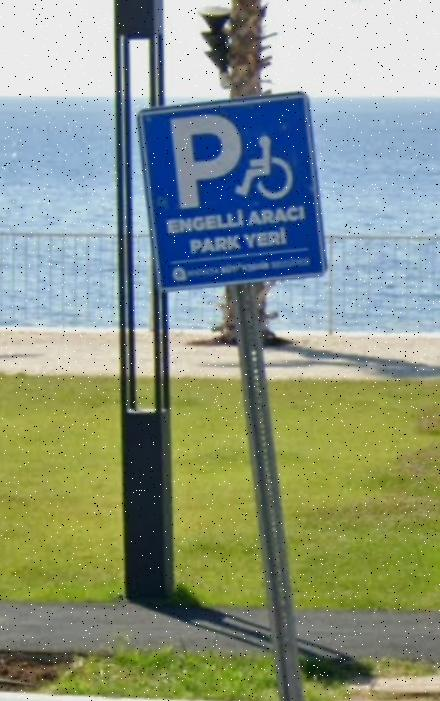disabledpark: (143, 107, 314, 260)
